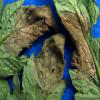Tomato leaf late blight: (0, 0, 56, 77), (12, 33, 70, 99)
